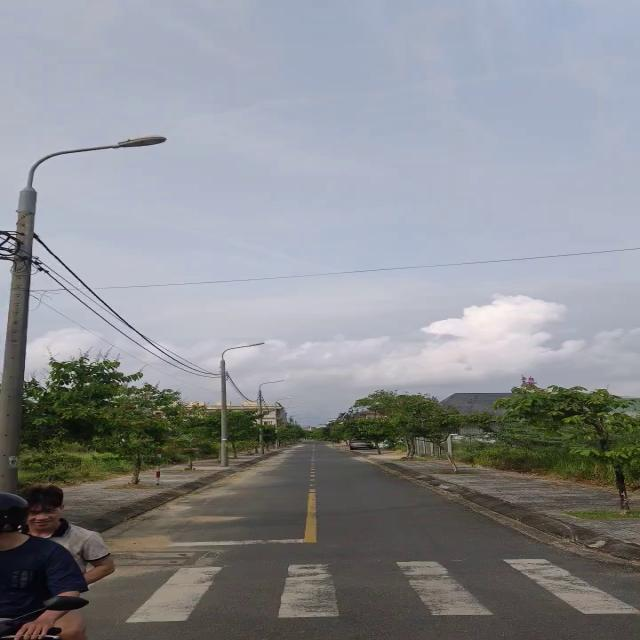without_helmet: (21, 482, 62, 530)
